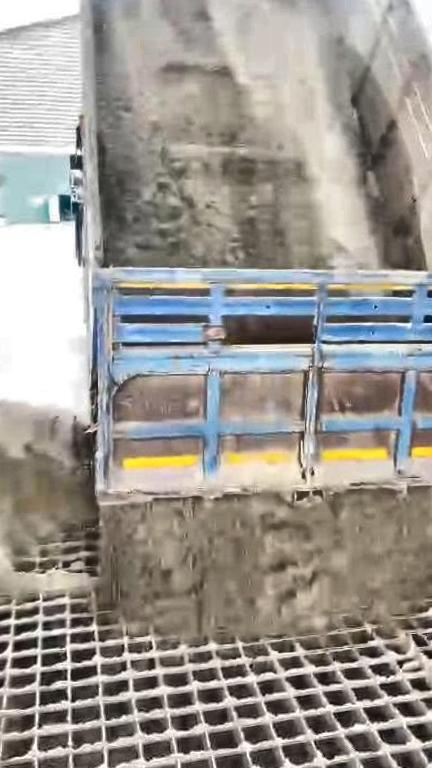sand: (92, 0, 378, 267), (100, 488, 432, 639), (0, 401, 96, 595)
